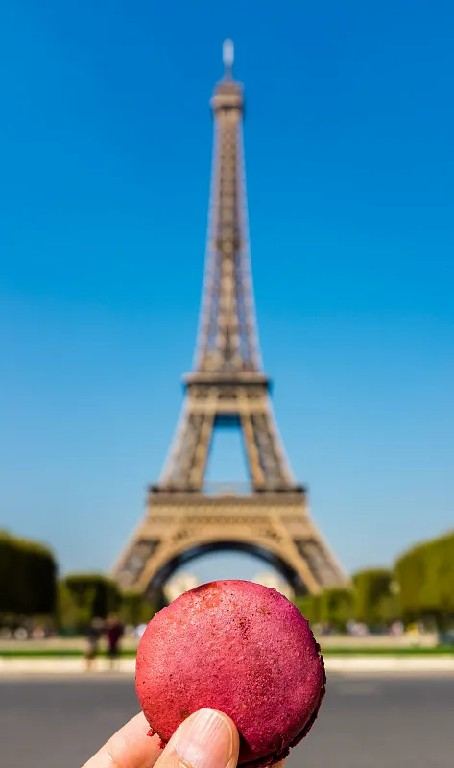Eiffel: (105, 37, 357, 599)
